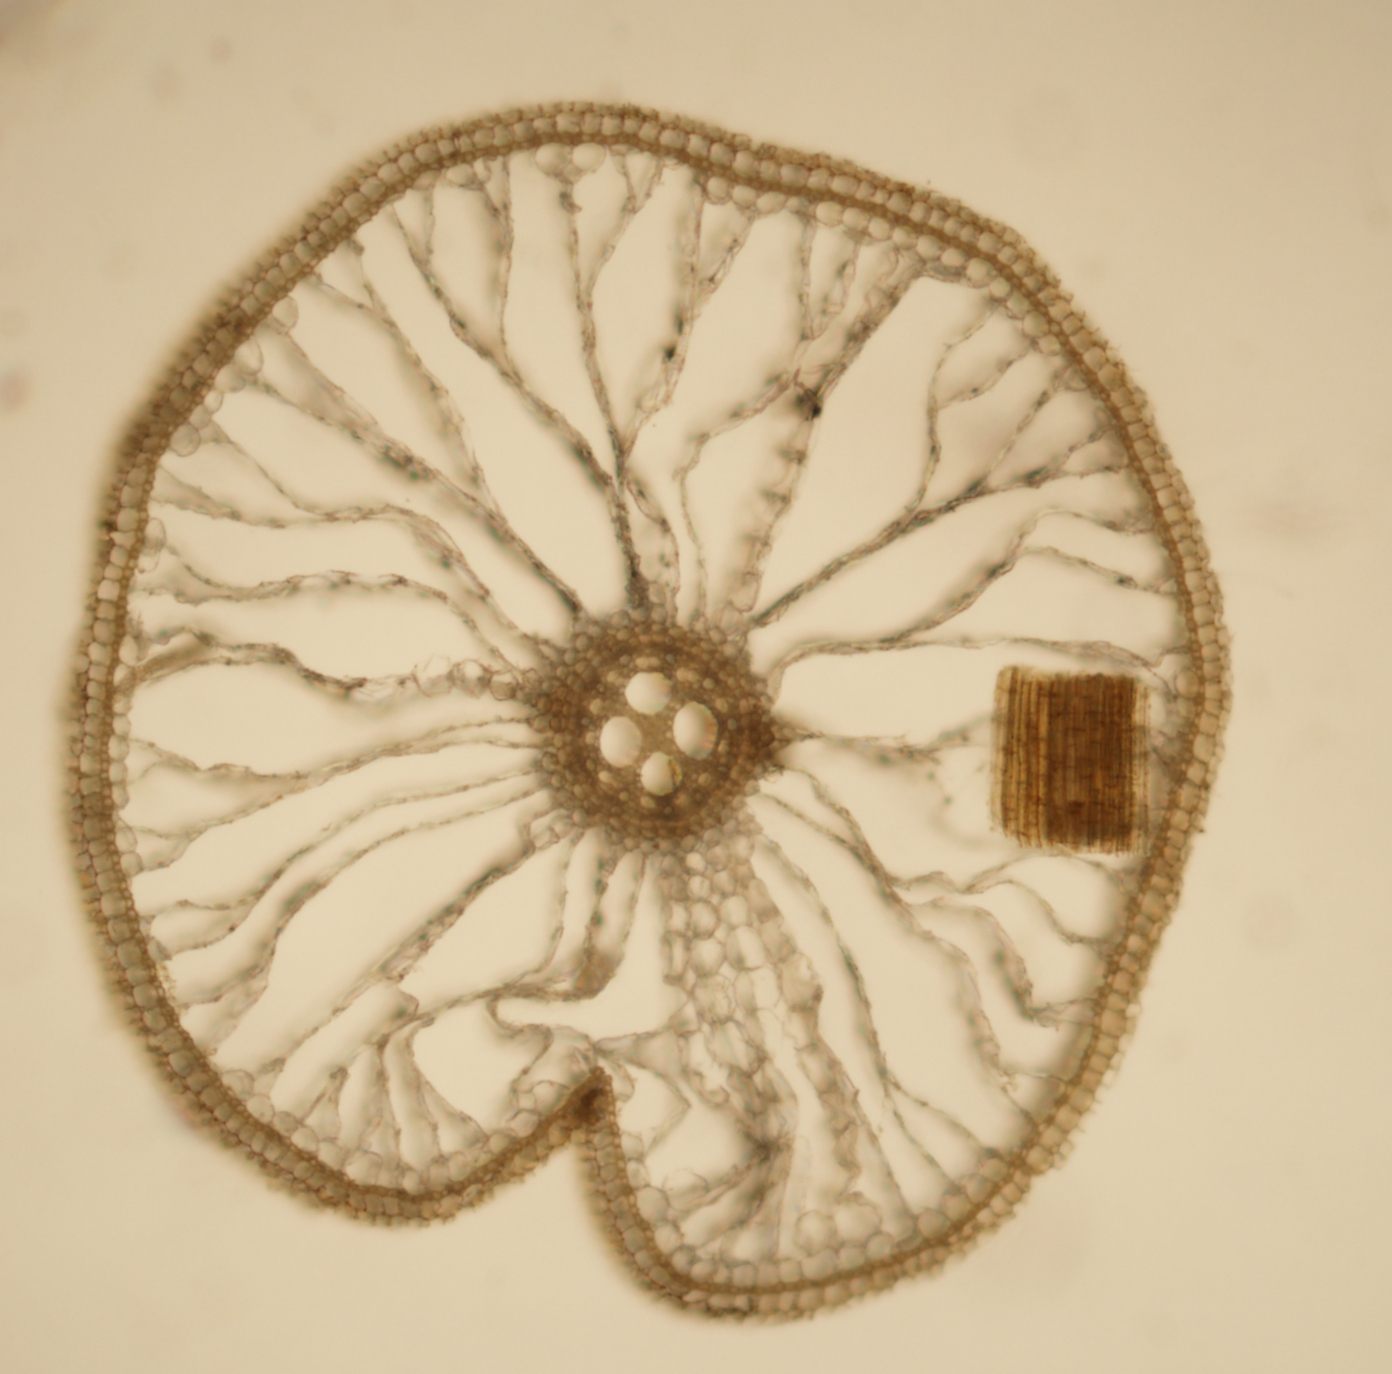lm: (673, 701, 719, 761), (599, 716, 642, 768), (624, 671, 673, 715), (641, 751, 682, 796)
